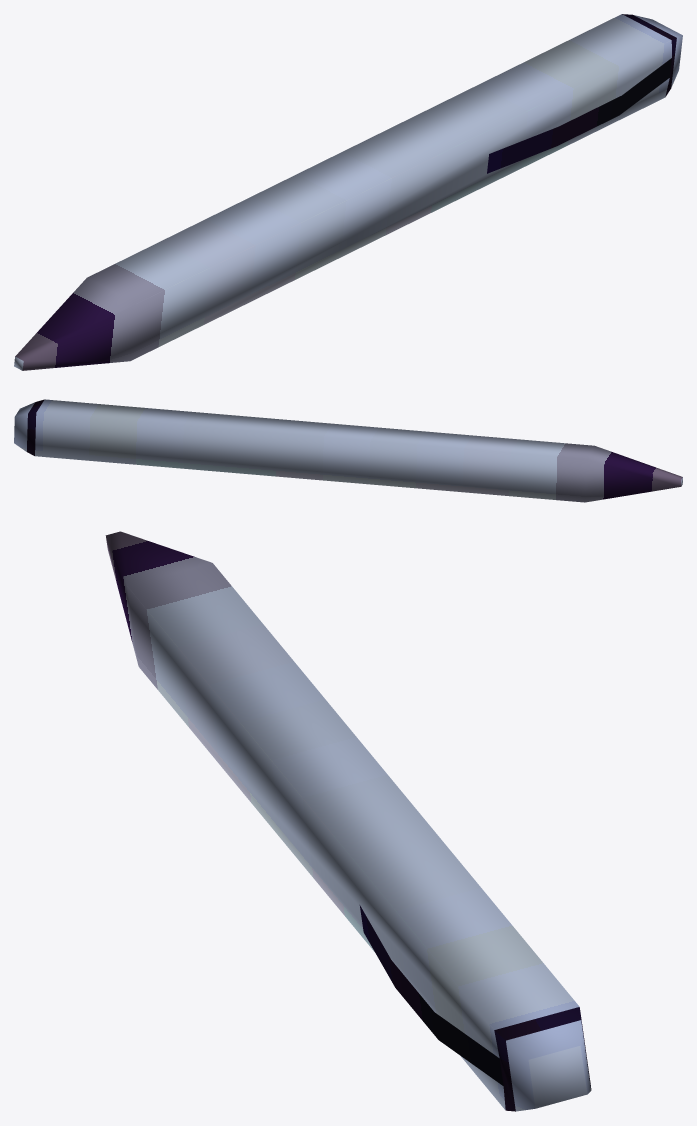
Rendered from pen3.fbx.
3 views of the same model, one above another, from view 1: azimuth 30°, elevation 25°; view 2: azimuth 150°, elevation 25°; view 3: azimuth 270°, elevation 25° (orthographic). The views are drawn at different scales.
Visible parts, largest first — view 1: pen3; view 2: pen3; view 3: pen3.
Boxes of the visible parts, left/top/right/bottom form: pen3: left=14, top=14, right=682, bottom=370; pen3: left=14, top=399, right=682, bottom=502; pen3: left=105, top=531, right=591, bottom=1111.
Size of the model in its own units: 22.07 by 1.81 by 8.29.
1 material, 1 textured.
